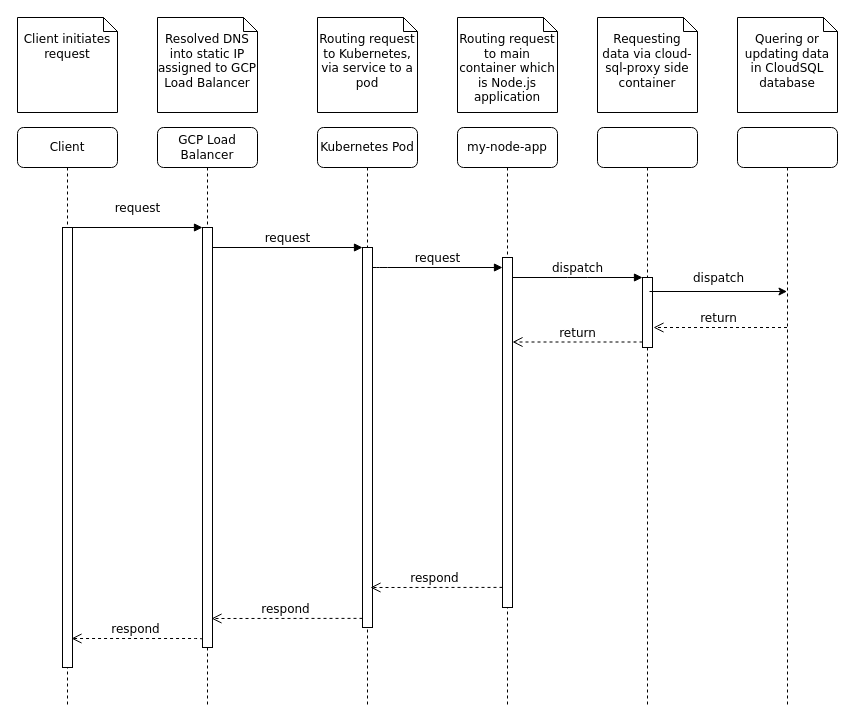
Some shapes in this 855 by 725 pixel diagram are drawn without their labels. Here are the shapes that lost their labels. From the top down, the box of each, then its label:
(596, 126, 698, 708): CloudSQL Auth Proxy
(736, 126, 838, 708): CloudSQL instance
